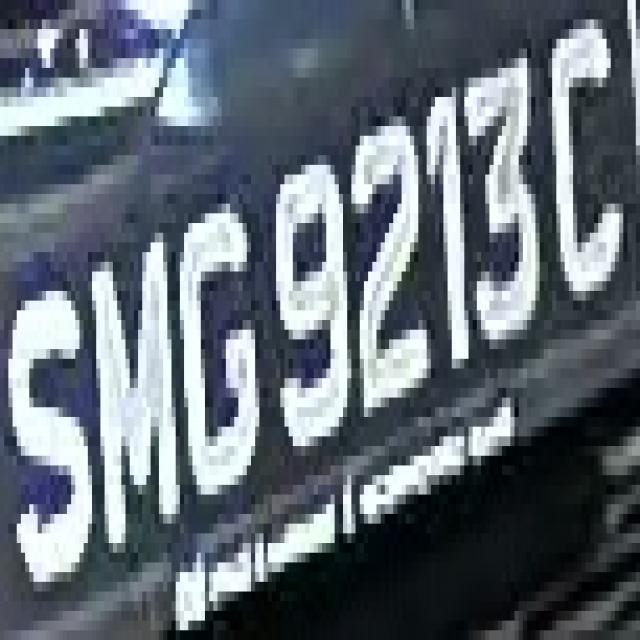1: (427, 68, 472, 397)
2: (339, 78, 431, 466)
3: (460, 19, 544, 368)
9: (259, 136, 360, 494)
C: (536, 10, 632, 339)
G: (172, 155, 268, 533)
M: (80, 223, 184, 562)
S: (4, 243, 92, 602)
